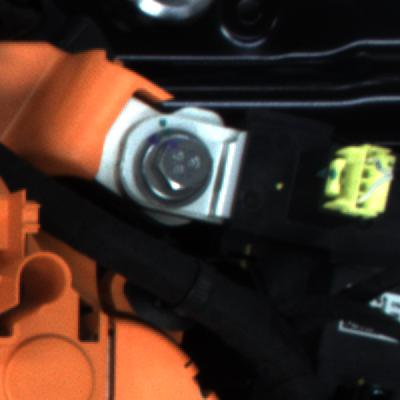nut_b: (117, 120, 224, 213)
